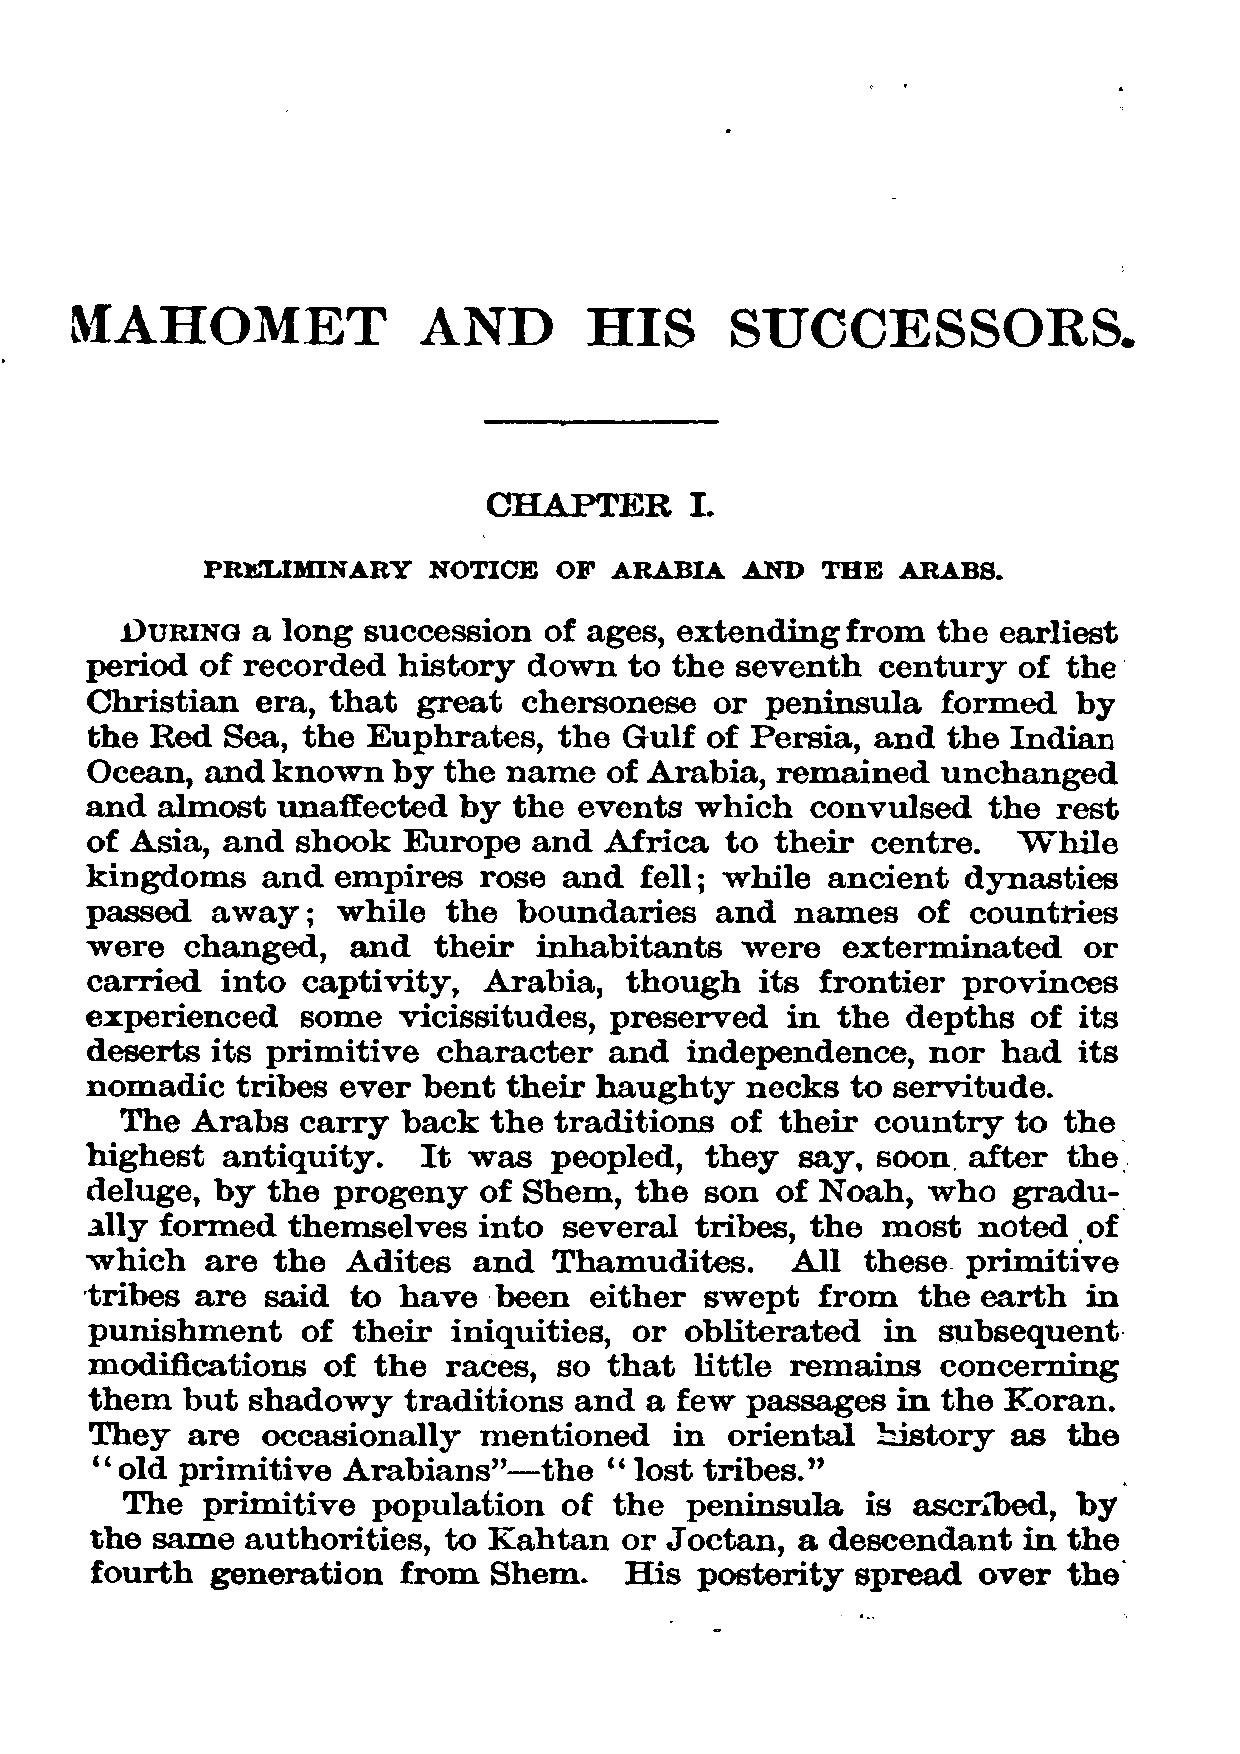chapter: (201, 491, 1004, 581), (59, 301, 1137, 352)
content: (81, 616, 1122, 1593)
